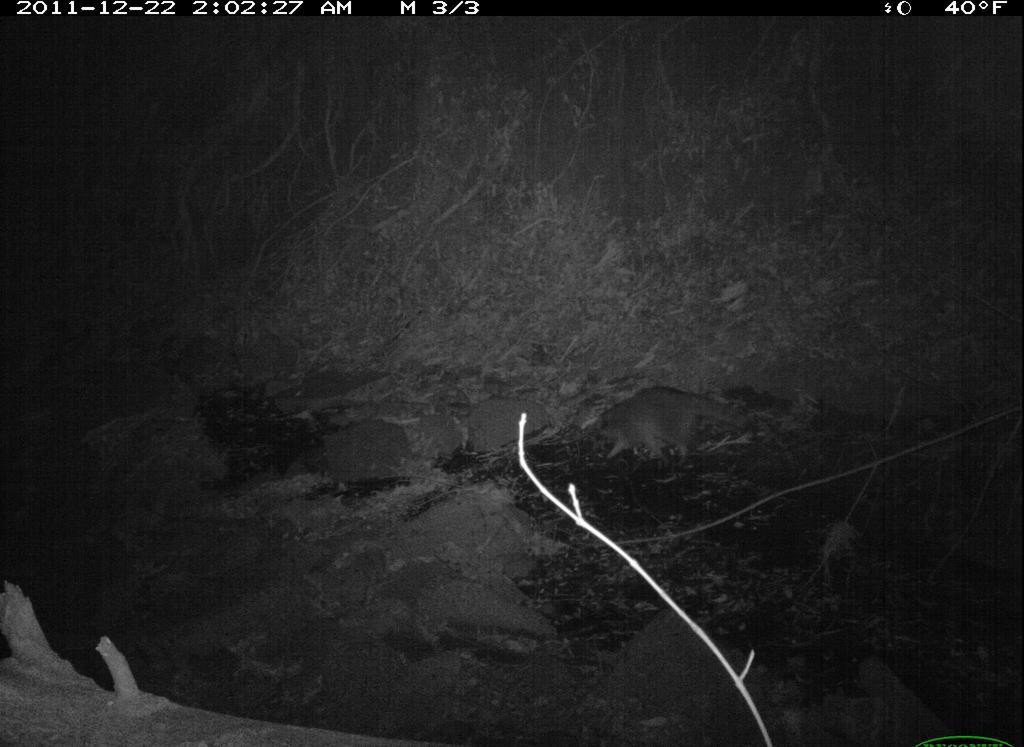raccoon: (589, 381, 760, 476)
